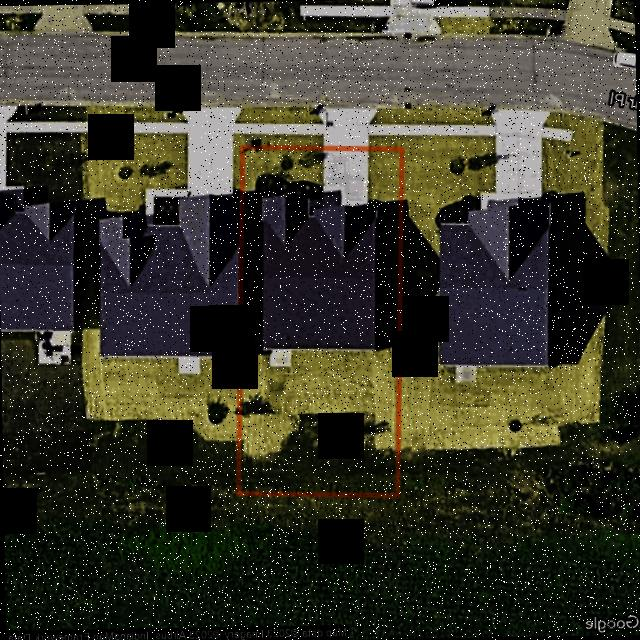Driveway: (308, 150, 368, 216)
Extra Driveway: (313, 108, 379, 146)
Extra Lawn: (241, 108, 322, 123), (242, 134, 324, 145), (369, 109, 404, 124), (369, 135, 404, 146)
Extra Sidewalk: (241, 122, 323, 134), (368, 123, 404, 135)
House: (262, 196, 375, 347)
Other: (268, 348, 291, 367)
